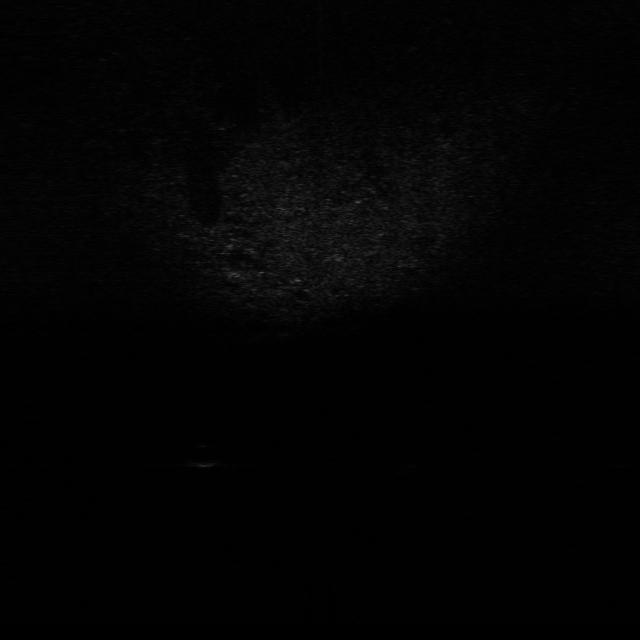ball: (182, 440, 224, 470)
